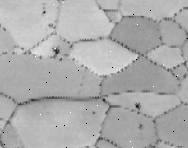good_void: (51, 47, 62, 58), (135, 102, 145, 111), (137, 122, 145, 130), (40, 10, 48, 15), (92, 110, 97, 115)
